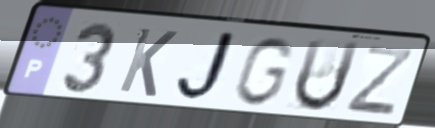3: (60, 20, 118, 96)
G: (230, 35, 297, 109)
J: (173, 29, 245, 105)
K: (115, 25, 181, 100)
U: (291, 37, 364, 115)
Z: (342, 43, 417, 119)
